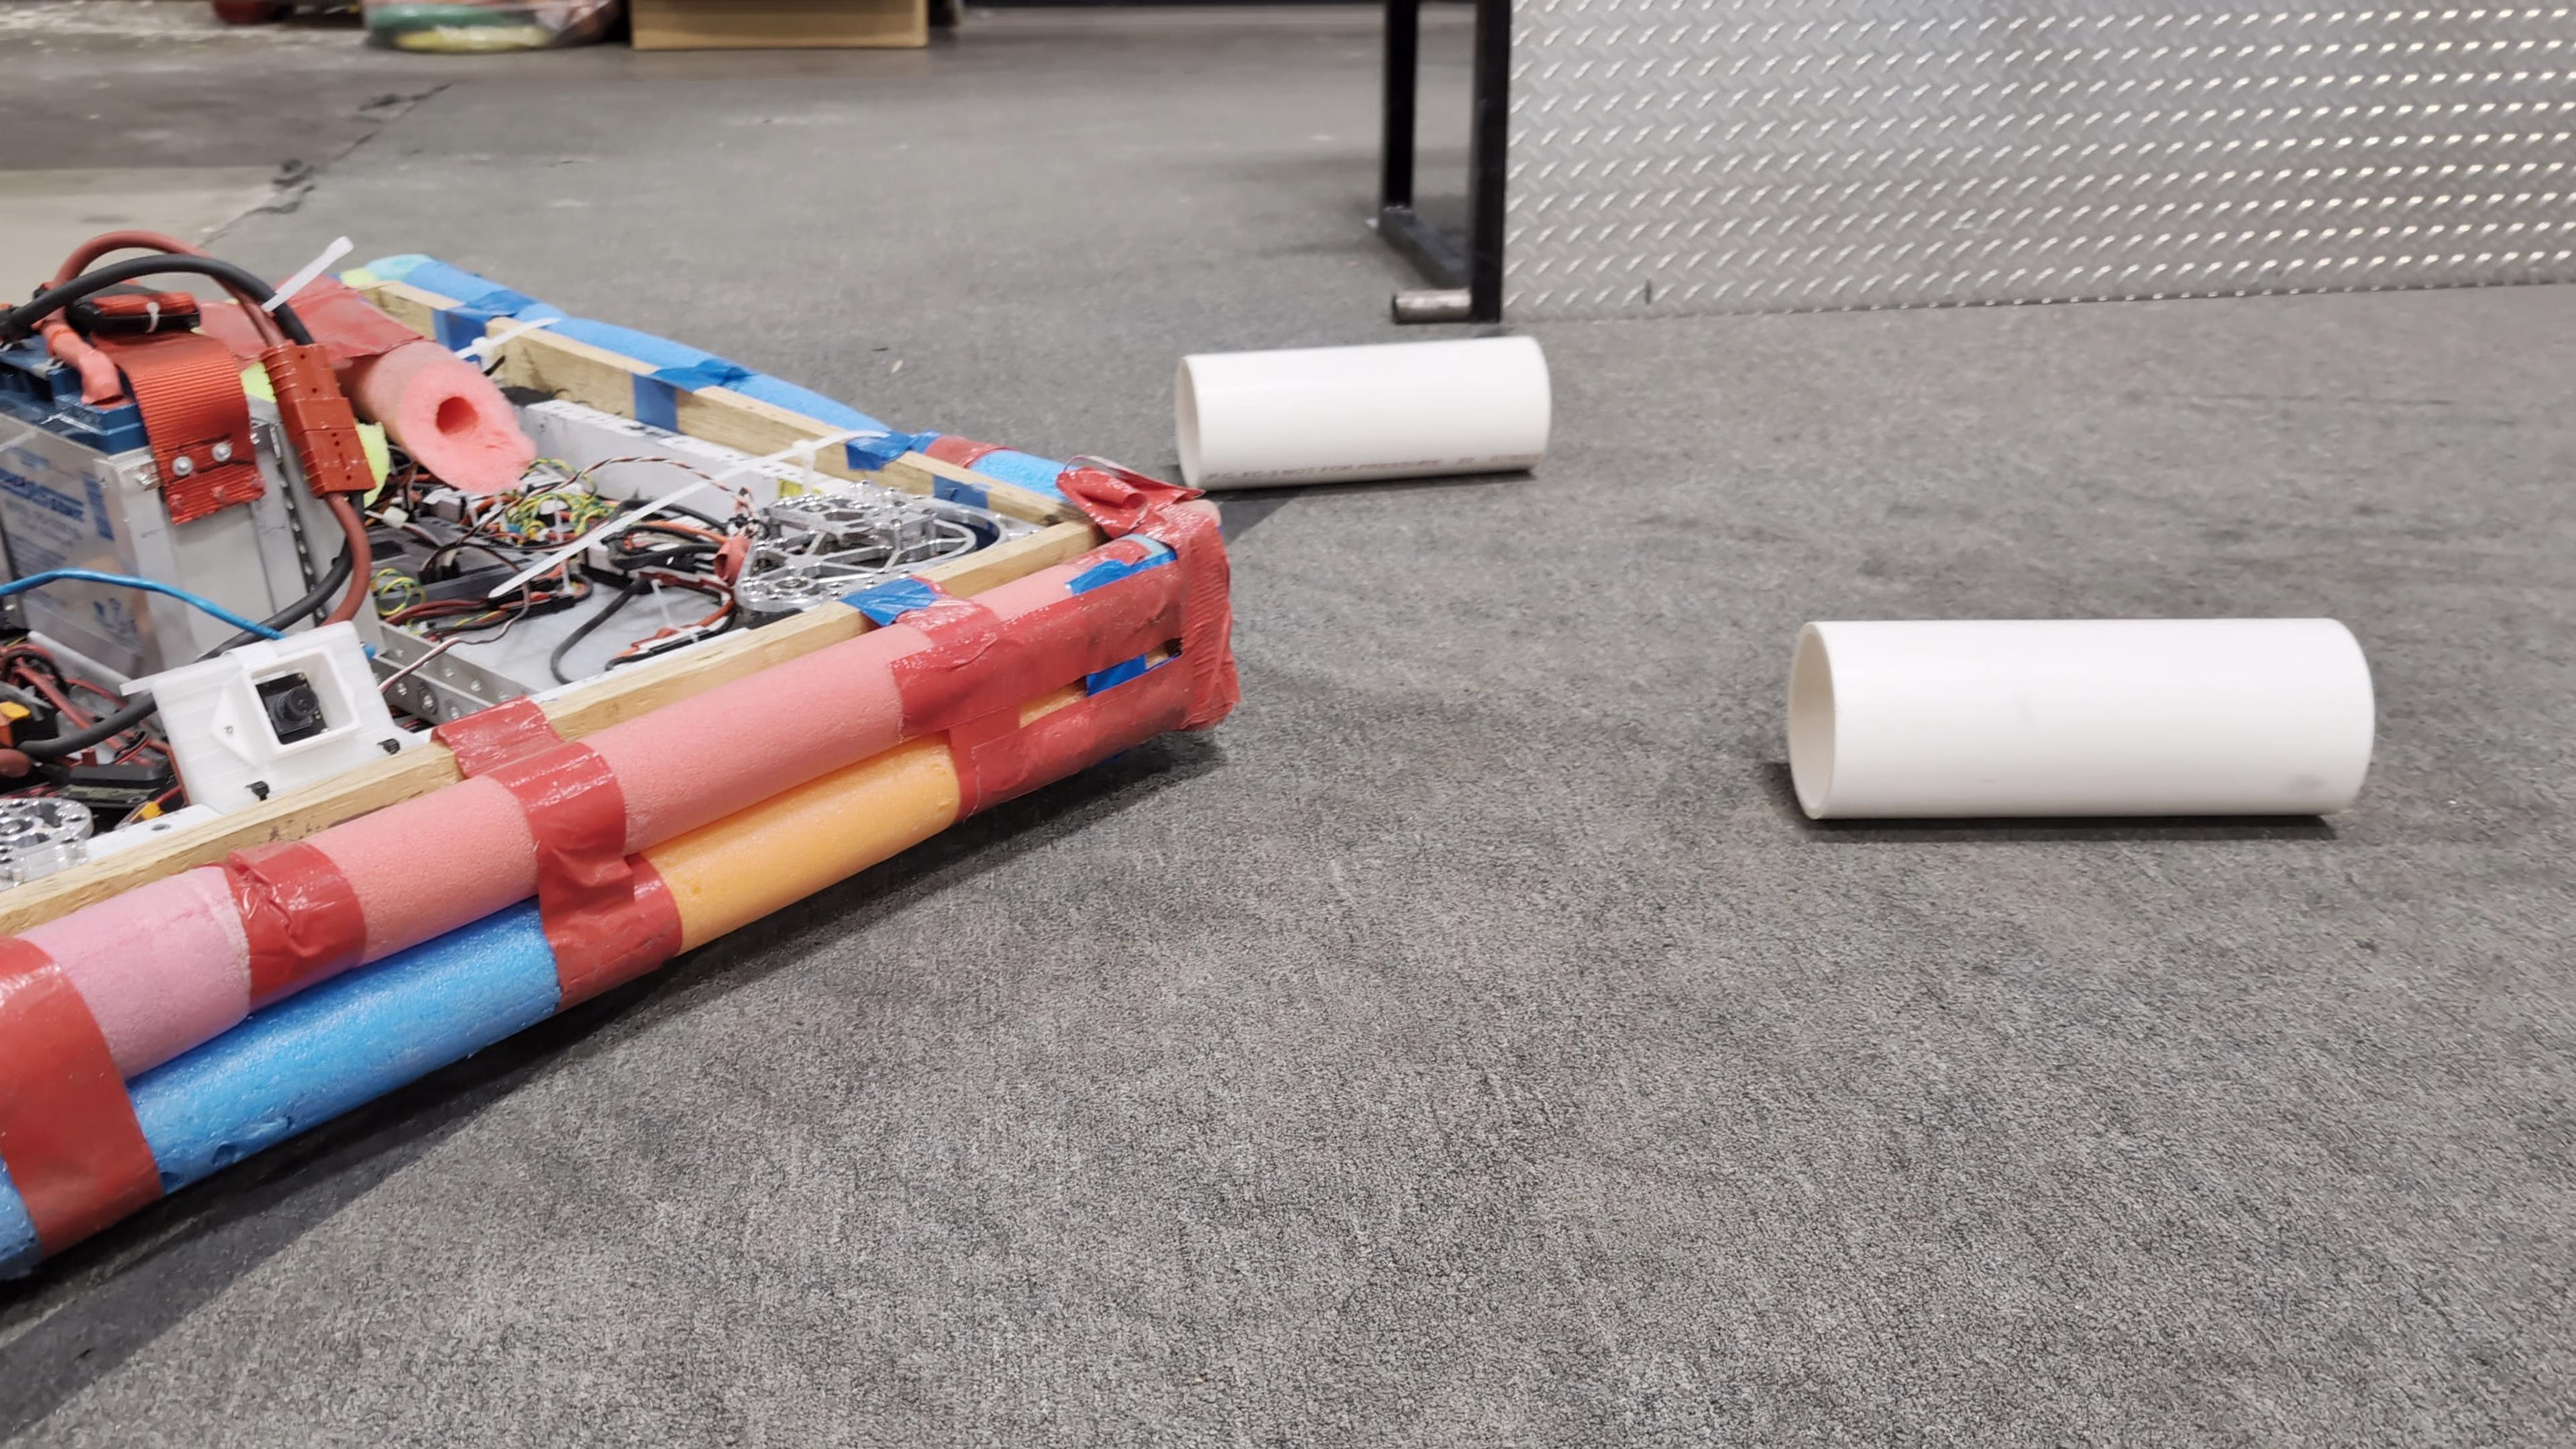coral: (1782, 612, 2376, 821), (1180, 326, 1552, 490)
